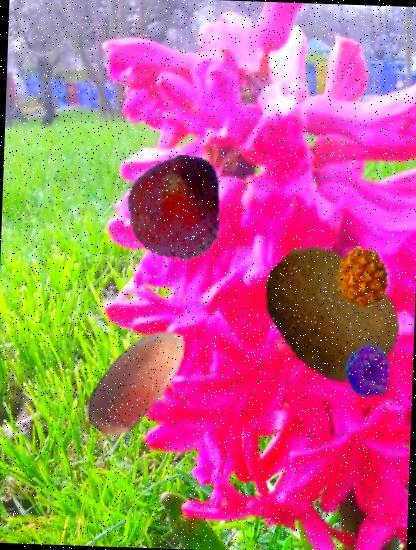Hazelnut: (71, 312, 206, 446)
Kiwi: (254, 239, 407, 392)
Pineapple: (331, 246, 394, 308)
Raspberry: (340, 344, 396, 400)
Salak: (120, 154, 228, 263)
